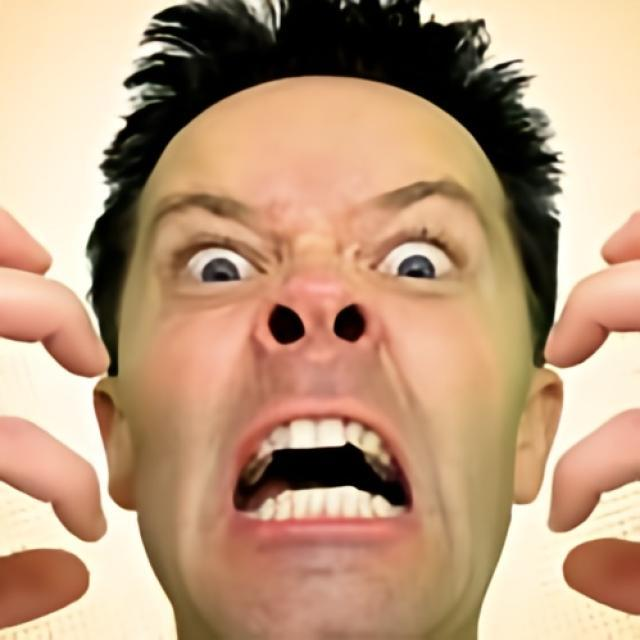anger: (118, 78, 526, 640)
